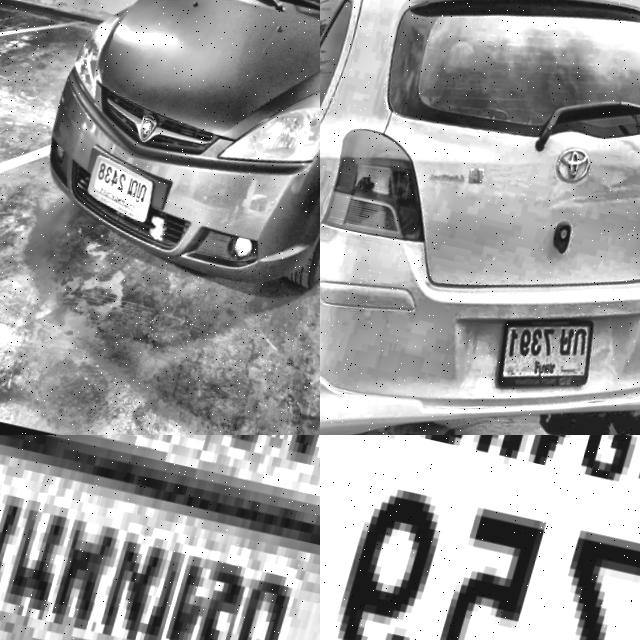license-plate: (0, 435, 320, 640), (320, 435, 640, 640), (491, 298, 612, 407), (83, 150, 166, 226)
